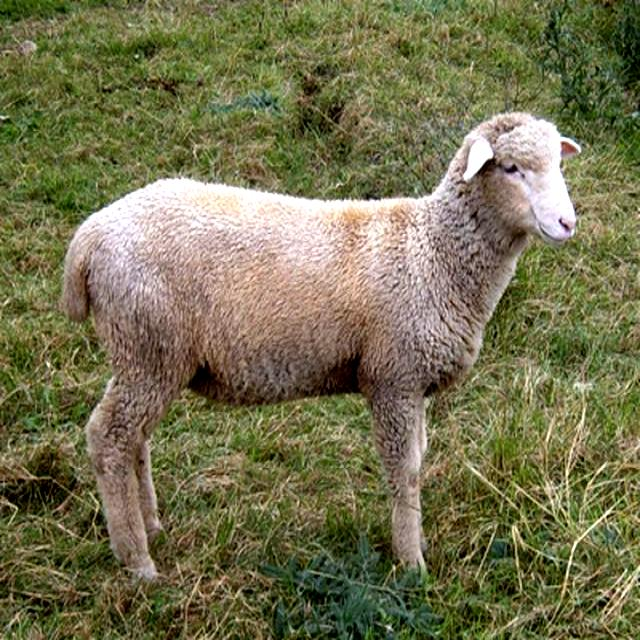sheep: (60, 112, 581, 576)
